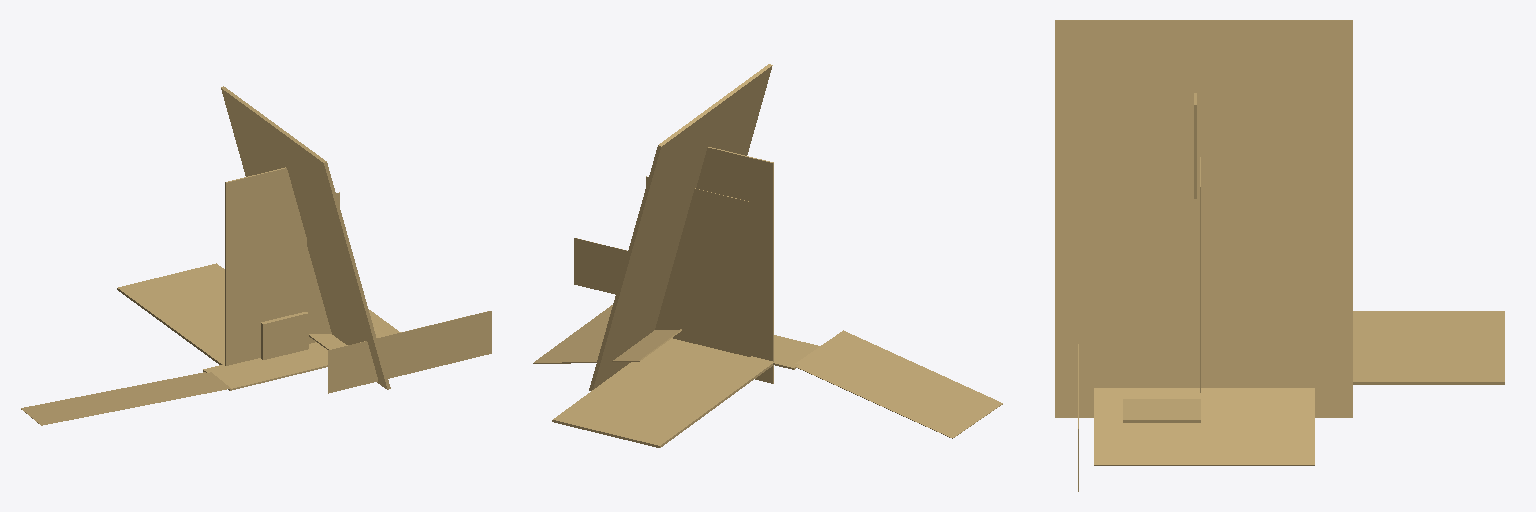
robot.urdf — evolved_design:
<?xml version="1.0" ?>
<robot name="evolved_design">
  <link name="base_link">
    <inertial>
      <mass value="0.001"/>
      <origin xyz="0 0 0" rpy="0 0 0"/>
      <inertia ixx="0.000001" ixy="0" ixz="0" iyy="0.000001" iyz="0" izz="0.000001"/>
    </inertial>
  </link>
  <link name="link_comp_0">
    <inertial>
      <mass value="0.148226"/>
      <origin xyz="0 0 0" rpy="0 0 0"/>
      <inertia ixx="0.000202359" ixy="0" ixz="0" iyy="0.000424693" iyz="0" izz="0.000226318"/>
    </inertial>
    <visual>
      <origin xyz="0 0 0" rpy="0 0 0"/>
      <geometry>
        <box size="0.134762 0.012700 0.127362"/>
      </geometry>
      <material name="link_comp_0_material">
        <color rgba="0.8 0.7 0.5 1"/>
      </material>
    </visual>
    <collision>
      <origin xyz="0 0 0" rpy="0 0 0"/>
      <geometry>
        <box size="0.134762 0.012700 0.127362"/>
      </geometry>
    </collision>
  </link>
  <joint name="base_link_to_link_comp_0" type="fixed">
    <parent link="base_link"/>
    <child link="link_comp_0"/>
    <origin xyz="0.061143 -0.023969 0.096859" rpy="0.000000 0.000000 0.000000"/>
  </joint>
  <link name="link_comp_1">
    <inertial>
      <mass value="0.228196"/>
      <origin xyz="0 0 0" rpy="0 0 0"/>
      <inertia ixx="0.000365622" ixy="0" ixz="0" iyy="0.004943317" iyz="0" izz="0.005308082"/>
    </inertial>
    <visual>
      <origin xyz="0 0 0" rpy="0 0 0"/>
      <geometry>
        <box size="0.509832 0.138579 0.004750"/>
      </geometry>
      <material name="link_comp_1_material">
        <color rgba="0.8 0.7 0.5 1"/>
      </material>
    </visual>
    <collision>
      <origin xyz="0 0 0" rpy="0 0 0"/>
      <geometry>
        <box size="0.509832 0.138579 0.004750"/>
      </geometry>
    </collision>
  </link>
  <joint name="base_link_to_link_comp_1" type="fixed">
    <parent link="base_link"/>
    <child link="link_comp_1"/>
    <origin xyz="0.088088 -0.069790 0.056170" rpy="0.000000 0.000000 0.000000"/>
  </joint>
  <link name="link_comp_2">
    <inertial>
      <mass value="0.681705"/>
      <origin xyz="0 0 0" rpy="0 0 0"/>
      <inertia ixx="0.016380963" ixy="0" ixz="0" iyy="0.004913390" iyz="0" izz="0.021289772"/>
    </inertial>
    <visual>
      <origin xyz="0 0 0" rpy="0 0 0"/>
      <geometry>
        <box size="0.294023 0.536947 0.006350"/>
      </geometry>
      <material name="link_comp_2_material">
        <color rgba="0.8 0.7 0.5 1"/>
      </material>
    </visual>
    <collision>
      <origin xyz="0 0 0" rpy="0 0 0"/>
      <geometry>
        <box size="0.294023 0.536947 0.006350"/>
      </geometry>
    </collision>
  </link>
  <joint name="base_link_to_link_comp_2" type="fixed">
    <parent link="base_link"/>
    <child link="link_comp_2"/>
    <origin xyz="0.036494 0.268474 0.056245" rpy="0.000000 0.000000 0.000000"/>
  </joint>
  <link name="link_comp_3">
    <inertial>
      <mass value="0.253974"/>
      <origin xyz="0 0 0" rpy="0 0 0"/>
      <inertia ixx="0.003220805" ixy="0" ixz="0" iyy="0.001924868" iyz="0" izz="0.005145247"/>
    </inertial>
    <visual>
      <origin xyz="0 0 0" rpy="0 0 0"/>
      <geometry>
        <box size="0.301559 0.390089 0.003175"/>
      </geometry>
      <material name="link_comp_3_material">
        <color rgba="0.8 0.7 0.5 1"/>
      </material>
    </visual>
    <collision>
      <origin xyz="0 0 0" rpy="0 0 0"/>
      <geometry>
        <box size="0.301559 0.390089 0.003175"/>
      </geometry>
    </collision>
  </link>
  <joint name="base_link_to_link_comp_3" type="fixed">
    <parent link="base_link"/>
    <child link="link_comp_3"/>
    <origin xyz="0.286042 0.005262 0.049143" rpy="0.000000 0.252251 0.000000"/>
  </joint>
  <link name="link_comp_4">
    <inertial>
      <mass value="2.429465"/>
      <origin xyz="0 0 0" rpy="0 0 0"/>
      <inertia ixx="0.158677460" ixy="0" ixz="0" iyy="0.102332382" iyz="0" izz="0.056381814"/>
    </inertial>
    <visual>
      <origin xyz="0 0 0" rpy="0 0 0"/>
      <geometry>
        <box size="0.009525 0.527636 0.710891"/>
      </geometry>
      <material name="link_comp_4_material">
        <color rgba="0.8 0.7 0.5 1"/>
      </material>
    </visual>
    <collision>
      <origin xyz="0 0 0" rpy="0 0 0"/>
      <geometry>
        <box size="0.009525 0.527636 0.710891"/>
      </geometry>
    </collision>
  </link>
  <joint name="base_link_to_link_comp_4" type="fixed">
    <parent link="base_link"/>
    <child link="link_comp_4"/>
    <origin xyz="0.140025 0.004392 0.355445" rpy="0.000000 -0.268840 0.000000"/>
  </joint>
  <link name="link_comp_5">
    <inertial>
      <mass value="0.040015"/>
      <origin xyz="0 0 0" rpy="0 0 0"/>
      <inertia ixx="0.000049658" ixy="0" ixz="0" iyy="0.000825083" iyz="0" izz="0.000775431"/>
    </inertial>
    <visual>
      <origin xyz="0 0 0" rpy="0 0 0"/>
      <geometry>
        <box size="0.482226 0.001000 0.122029"/>
      </geometry>
      <material name="link_comp_5_material">
        <color rgba="0.8 0.7 0.5 1"/>
      </material>
    </visual>
    <collision>
      <origin xyz="0 0 0" rpy="0 0 0"/>
      <geometry>
        <box size="0.482226 0.001000 0.122029"/>
      </geometry>
    </collision>
  </link>
  <joint name="base_link_to_link_comp_5" type="fixed">
    <parent link="base_link"/>
    <child link="link_comp_5"/>
    <origin xyz="0.319584 -0.216894 0.081837" rpy="0.000000 0.000000 0.000000"/>
  </joint>
  <link name="link_comp_6">
    <inertial>
      <mass value="0.447775"/>
      <origin xyz="0 0 0" rpy="0 0 0"/>
      <inertia ixx="0.012396450" ixy="0" ixz="0" iyy="0.014554545" iyz="0" izz="0.002159779"/>
    </inertial>
    <visual>
      <origin xyz="0 0 0" rpy="0 0 0"/>
      <geometry>
        <box size="0.240536 0.004750 0.576361"/>
      </geometry>
      <material name="link_comp_6_material">
        <color rgba="0.8 0.7 0.5 1"/>
      </material>
    </visual>
    <collision>
      <origin xyz="0 0 0" rpy="0 0 0"/>
      <geometry>
        <box size="0.240536 0.004750 0.576361"/>
      </geometry>
    </collision>
  </link>
  <joint name="base_link_to_link_comp_6" type="fixed">
    <parent link="base_link"/>
    <child link="link_comp_6"/>
    <origin xyz="0.014494 -0.010823 0.288181" rpy="0.000000 0.000000 0.000000"/>
  </joint>
  <link name="link_comp_7">
    <inertial>
      <mass value="0.138134"/>
      <origin xyz="0 0 0" rpy="0 0 0"/>
      <inertia ixx="0.002485547" ixy="0" ixz="0" iyy="0.003432714" iyz="0" izz="0.000947220"/>
    </inertial>
    <visual>
      <origin xyz="0 0 0" rpy="0 0 0"/>
      <geometry>
        <box size="0.286853 0.001524 0.464674"/>
      </geometry>
      <material name="link_comp_7_material">
        <color rgba="0.8 0.7 0.5 1"/>
      </material>
    </visual>
    <collision>
      <origin xyz="0 0 0" rpy="0 0 0"/>
      <geometry>
        <box size="0.286853 0.001524 0.464674"/>
      </geometry>
    </collision>
  </link>
  <joint name="base_link_to_link_comp_7" type="fixed">
    <parent link="base_link"/>
    <child link="link_comp_7"/>
    <origin xyz="0.094326 -0.001262 0.232337" rpy="0.000000 0.000000 0.000000"/>
  </joint>
  <link name="link_comp_8">
    <inertial>
      <mass value="0.076502"/>
      <origin xyz="0 0 0" rpy="0 0 0"/>
      <inertia ixx="0.000207629" ixy="0" ixz="0" iyy="0.001666849" iyz="0" izz="0.001874459"/>
    </inertial>
    <visual>
      <origin xyz="0 0 0" rpy="0 0 0"/>
      <geometry>
        <box size="0.511330 0.180463 0.001219"/>
      </geometry>
      <material name="link_comp_8_material">
        <color rgba="0.8 0.7 0.5 1"/>
      </material>
    </visual>
    <collision>
      <origin xyz="0 0 0" rpy="0 0 0"/>
      <geometry>
        <box size="0.511330 0.180463 0.001219"/>
      </geometry>
    </collision>
  </link>
  <joint name="base_link_to_link_comp_8" type="fixed">
    <parent link="base_link"/>
    <child link="link_comp_8"/>
    <origin xyz="-0.422992 -0.049003 0.055890" rpy="-0.171534 -0.061565 -0.210238"/>
  </joint>
</robot>

--- Render facts (derived) ---
Views: 3 orthographic renders of the robot side by side, from view 1: azimuth 30°, elevation 25°; view 2: azimuth 150°, elevation 25°; view 3: azimuth 270°, elevation 25°.
Robot: evolved_design — 10 links, 9 joints (9 fixed); root link base_link; default pose: every joint at zero.
Visible links, largest first — view 1: link_comp_6, link_comp_4, link_comp_5, link_comp_2, link_comp_8, link_comp_1, link_comp_0, link_comp_7, link_comp_3; view 2: link_comp_4, link_comp_2, link_comp_7, link_comp_8, link_comp_6, link_comp_3, link_comp_5, link_comp_1; view 3: link_comp_4, link_comp_3, link_comp_2, link_comp_1.
Boxes of the visible links, x1,y1,x2,y2 form: link_comp_6: (225, 167, 306, 365); link_comp_4: (221, 86, 390, 389); link_comp_5: (328, 311, 491, 393); link_comp_2: (117, 263, 224, 364); link_comp_8: (21, 372, 230, 425); link_comp_1: (203, 327, 386, 390); link_comp_0: (261, 312, 308, 359); link_comp_7: (307, 192, 339, 343); link_comp_3: (309, 310, 400, 349); link_comp_4: (589, 64, 772, 390); link_comp_2: (552, 338, 772, 447); link_comp_7: (646, 176, 750, 356); link_comp_8: (795, 330, 1002, 438); link_comp_6: (696, 147, 773, 383); link_comp_3: (533, 305, 681, 363); link_comp_5: (574, 238, 627, 294); link_comp_1: (751, 335, 819, 369); link_comp_4: (1055, 20, 1352, 417); link_comp_3: (1094, 388, 1314, 465); link_comp_2: (1353, 311, 1504, 384); link_comp_1: (1123, 399, 1200, 422).
Bounding box of the posed robot: 1.25 × 0.7964 × 0.6994 m (x, y, z).
Geometry: primitives only (box / cylinder / sphere), no mesh files.